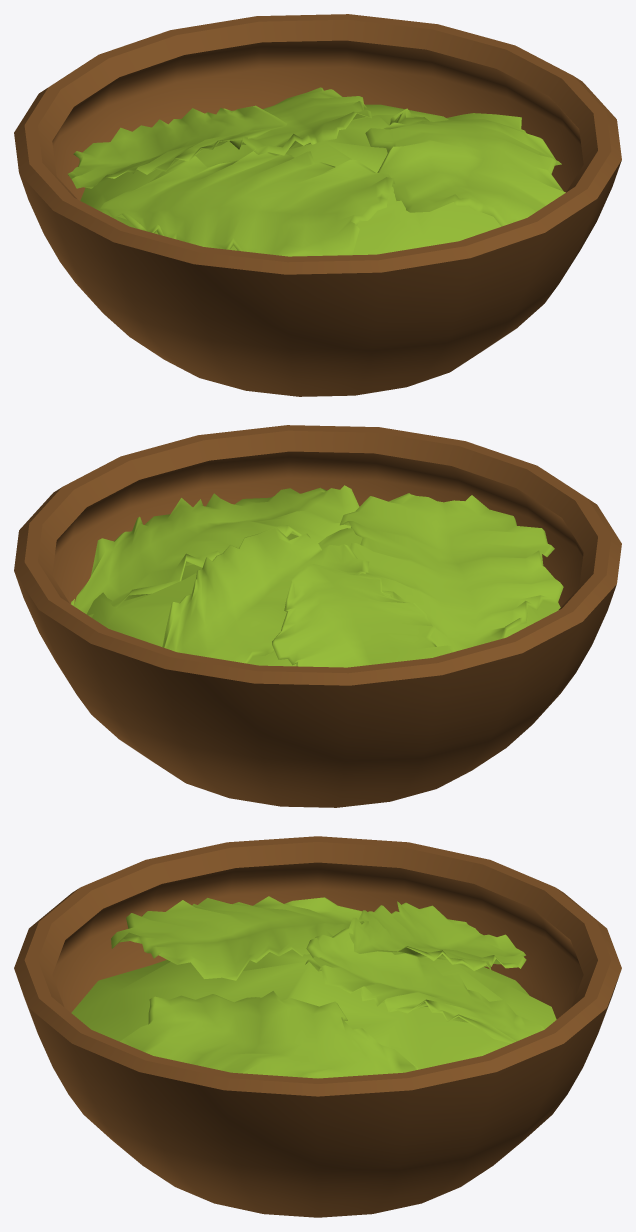
Rendered from mesh_lettuce_bowl_full.fbx.
3 views of the same model, one above another, from view 1: azimuth 30°, elevation 25°; view 2: azimuth 150°, elevation 25°; view 3: azimuth 270°, elevation 25° (orthographic).
Visible parts, largest first — view 1: mesh_lettuce_bowl_empty, mesh_letuce_bowl_contents; view 2: mesh_lettuce_bowl_empty, mesh_letuce_bowl_contents; view 3: mesh_lettuce_bowl_empty, mesh_letuce_bowl_contents.
Part boxes in pixels (bbox=[...]): mesh_lettuce_bowl_empty: bbox=[14, 14, 621, 396]; mesh_letuce_bowl_contents: bbox=[68, 87, 565, 256]; mesh_lettuce_bowl_empty: bbox=[14, 425, 621, 807]; mesh_letuce_bowl_contents: bbox=[71, 485, 563, 667]; mesh_lettuce_bowl_empty: bbox=[14, 836, 621, 1217]; mesh_letuce_bowl_contents: bbox=[71, 896, 556, 1078].
Size of the model in its own units: 0.2166 by 0.0775 by 0.2167.
